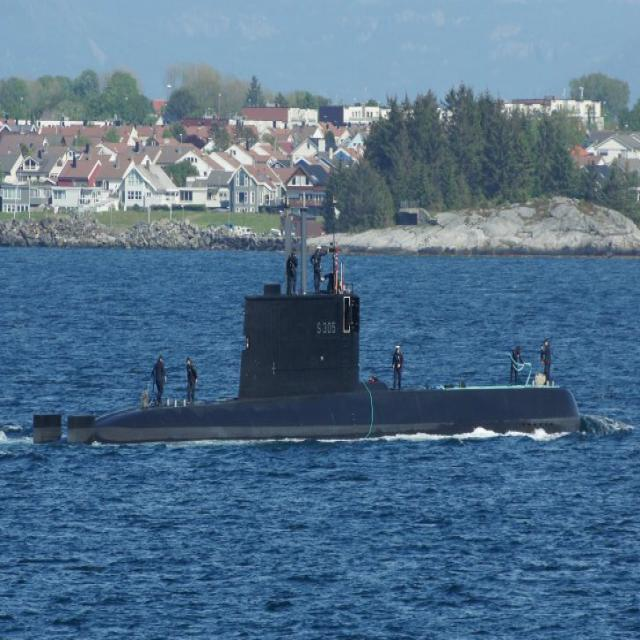submarine: (33, 208, 584, 444)
